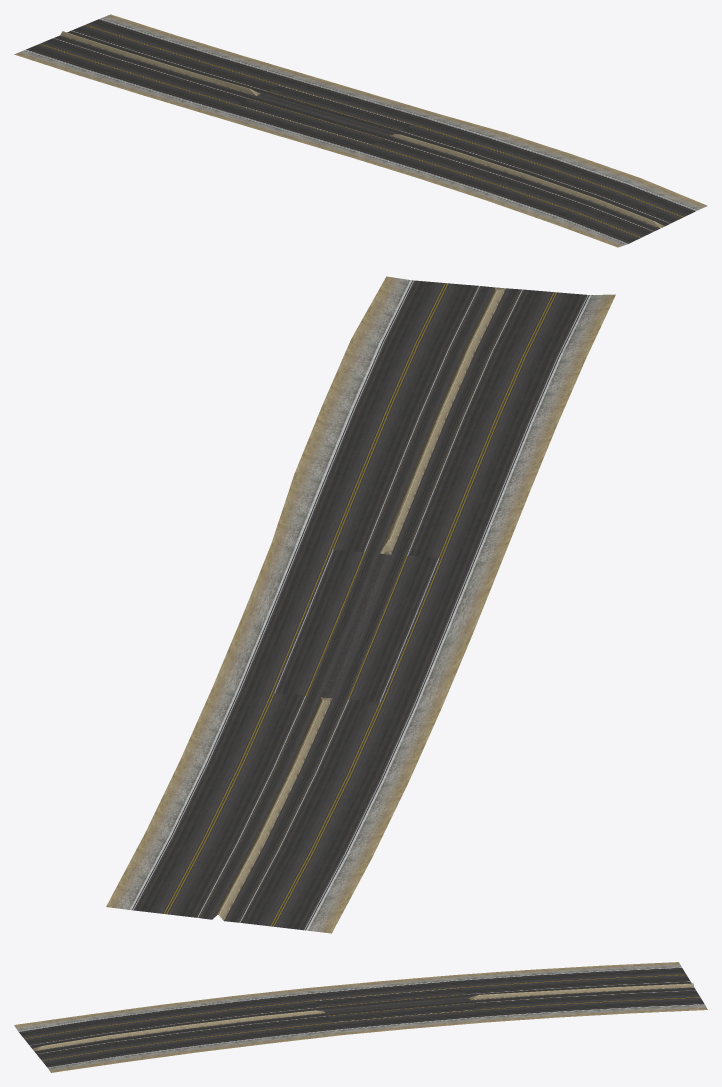
Rendered from vegassedge19.obj.
3 renders of one model, top to bottom at view 1: azimuth 30°, elevation 25°; view 2: azimuth 150°, elevation 25°; view 3: azimuth 270°, elevation 25°, orthographic. The views are drawn at different scales.
Parts seen in each view (by area): view 1: vegasSedge19; view 2: vegasSedge19; view 3: vegasSedge19.
Part boxes in pixels (<box>): vegasSedge19: <box>14,14,707,247</box>; vegasSedge19: <box>106,276,615,933</box>; vegasSedge19: <box>14,962,707,1072</box>.
Size of the model in its own units: 109 by 11.7 by 228.
4 materials, 4 textured.
